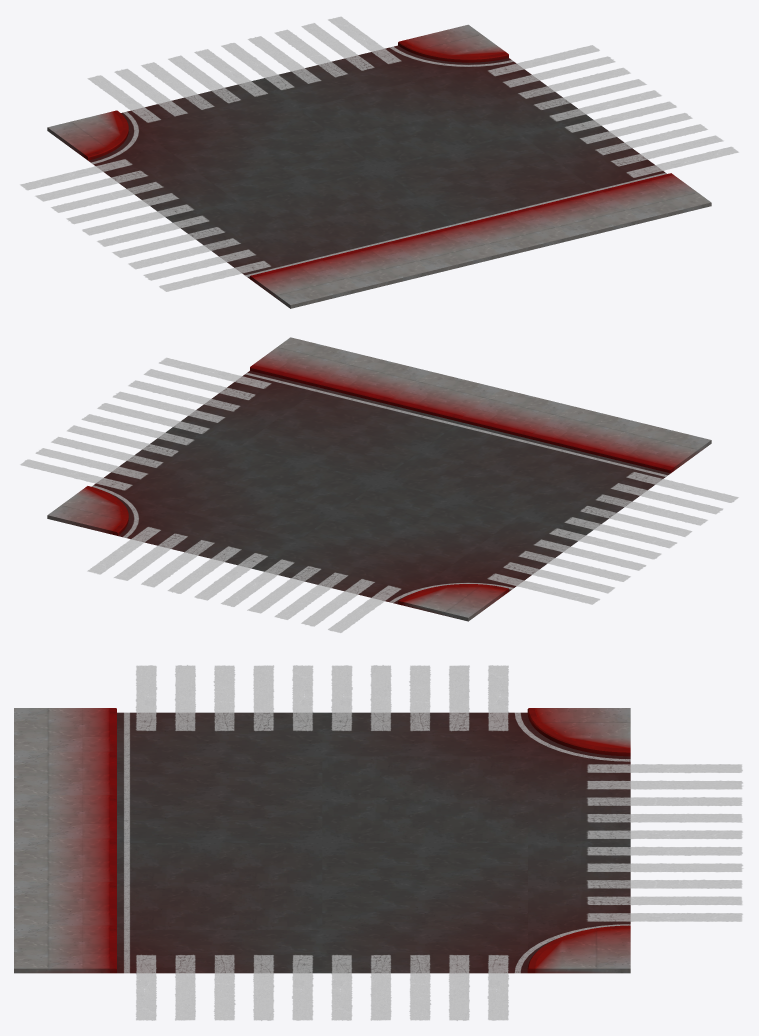
File: road_tee.glb
The picture shows the model from 3 angles, top to bottom: view 1: azimuth 30°, elevation 25°; view 2: azimuth 150°, elevation 25°; view 3: azimuth 270°, elevation 25°; orthographic projection. The views are drawn at different scales.
Parts seen in each view (by area): view 1: Street_TIntersection; view 2: Street_TIntersection; view 3: Street_TIntersection.
Boxes of the visible parts, x1=… form: Street_TIntersection: x1=20, y1=16, x2=738, y2=308; Street_TIntersection: x1=20, y1=337, x2=738, y2=632; Street_TIntersection: x1=14, y1=665, x2=742, y2=1020.
Size of the model in its own units: 24.67 by 0.15 by 21.33.
Materials: 3 (3 with a texture image).
